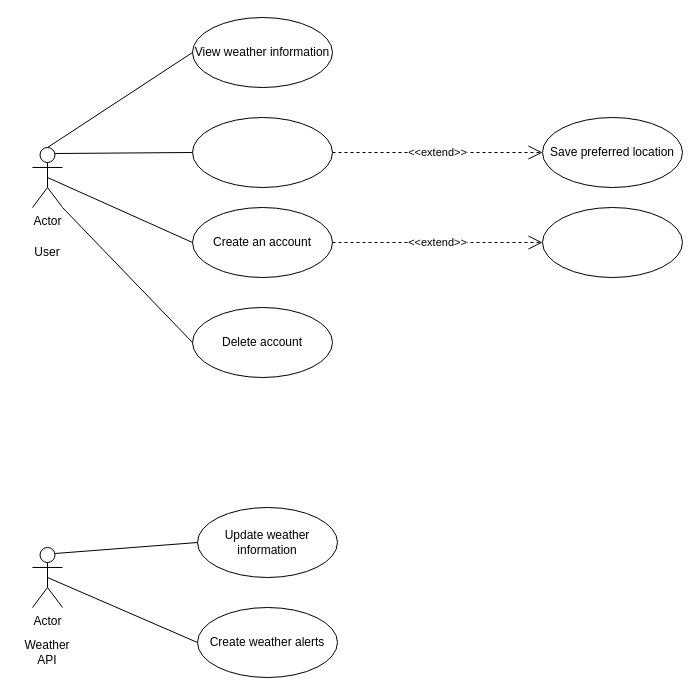
The diagram is 700 pixels wide and 695 high, and some of its shapes have lost their labels. The centre of each missing label's shape, as x and y in pixels:
"Log into account" goes at [612,242].
"Search for location" goes at [262,152].
